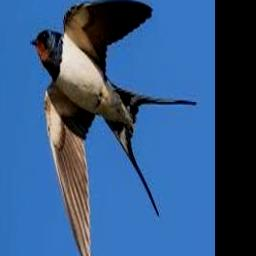Swallow: (31, 0, 197, 256)
